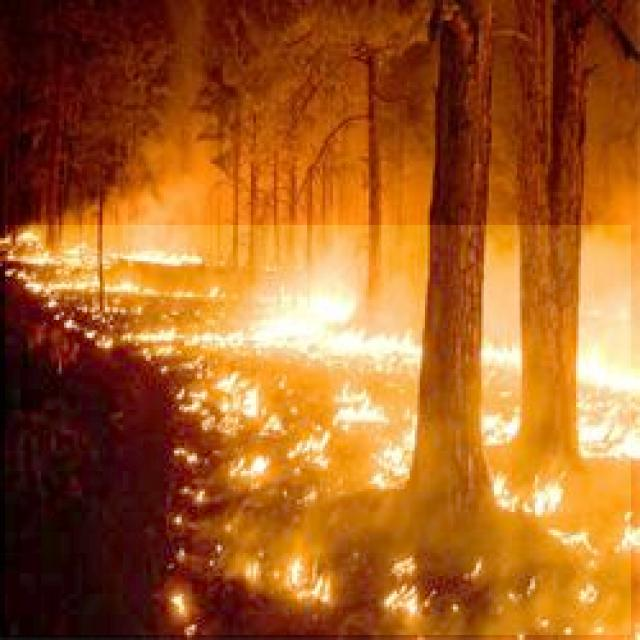Fire: (5, 225, 631, 635)
